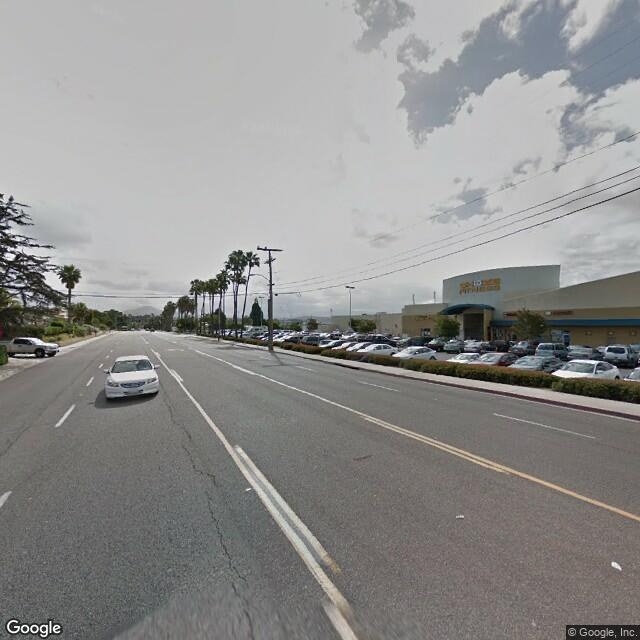litter: (455, 512, 468, 523)
